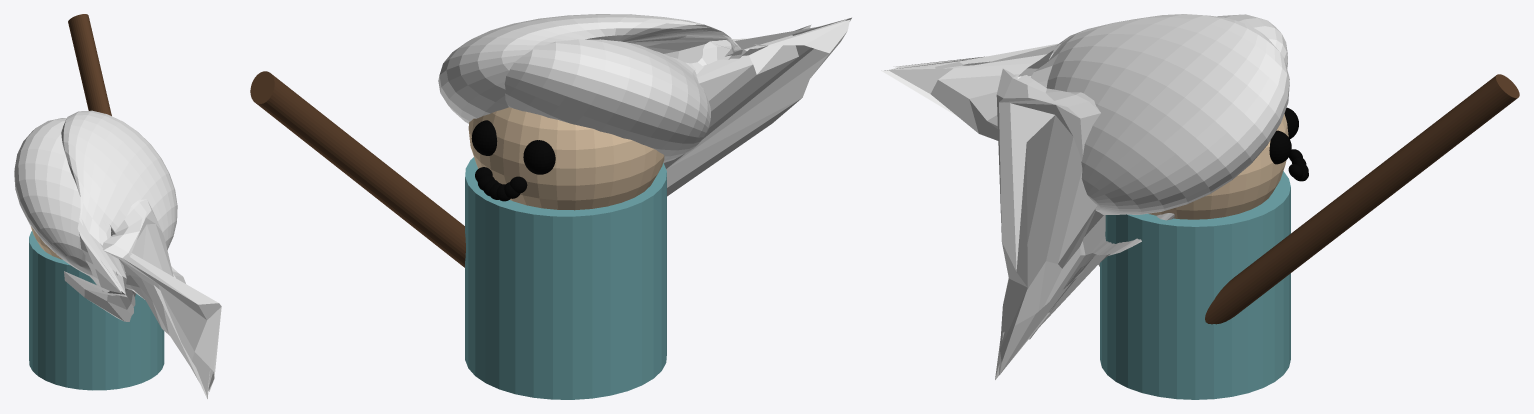
Rendered from wizord_frier.glb.
3 renders of one model, left to right at view 1: azimuth 30°, elevation 25°; view 2: azimuth 150°, elevation 25°; view 3: azimuth 270°, elevation 25°, orthographic. The views are drawn at different scales.
Visible parts, largest first — view 1: Sphere.004, Sphere.005, Cylinder, Cylinder.002, Sphere; view 2: Cylinder, Sphere.005, Sphere.004, Sphere, Cylinder.002, Sphere.001, Sphere.002; view 3: Sphere.005, Cylinder, Sphere.004, Cylinder.002, Sphere, Sphere.002.
Part boxes in pixels (bbox=[...]): Sphere.004: bbox=[14, 118, 221, 399]; Sphere.005: bbox=[61, 110, 177, 321]; Cylinder: bbox=[29, 231, 164, 390]; Cylinder.002: bbox=[68, 14, 111, 115]; Sphere: bbox=[30, 226, 62, 259]; Cylinder: bbox=[465, 157, 666, 399]; Sphere.005: bbox=[438, 14, 851, 196]; Sphere.004: bbox=[504, 39, 749, 162]; Sphere: bbox=[468, 107, 664, 210]; Cylinder.002: bbox=[250, 71, 465, 267]; Sphere.001: bbox=[523, 140, 555, 174]; Sphere.002: bbox=[471, 120, 497, 155]; Sphere.005: bbox=[882, 14, 1289, 266]; Cylinder: bbox=[1100, 171, 1290, 399]; Sphere.004: bbox=[995, 14, 1287, 379]; Cylinder.002: bbox=[1205, 74, 1519, 324]; Sphere: bbox=[1148, 114, 1288, 219]; Sphere.002: bbox=[1269, 130, 1291, 164].
Size of the model in its own units: 3.39 by 4.02 by 6.69.
